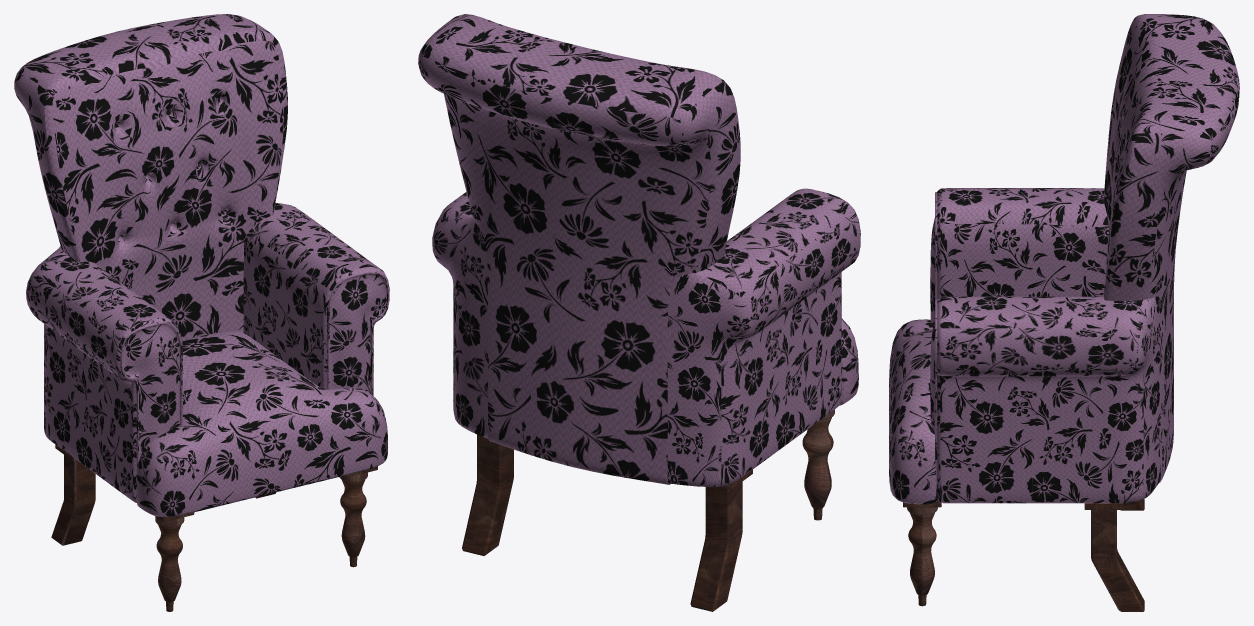
The model's file is Armchair.gltf.
The picture shows the model from 3 angles, left to right: view 1: azimuth 30°, elevation 25°; view 2: azimuth 150°, elevation 25°; view 3: azimuth 270°, elevation 25°; orthographic projection. The views are drawn at different scales.
Visible parts, largest first — view 1: Cube.003, Cube.001; view 2: Cube.003, Cube.001; view 3: Cube.003, Cube.001.
Boxes of the visible parts, x1,y1,x2,y2 form: Cube.003: (14,14,389,516); Cube.001: (51,445,377,611); Cube.003: (418,14,860,486); Cube.001: (462,409,834,611); Cube.003: (889,14,1239,504); Cube.001: (903,499,1144,611).
Bounding box in the file's own units: 2.68 × 4.29 × 2.78.
2 materials, 2 textured.
